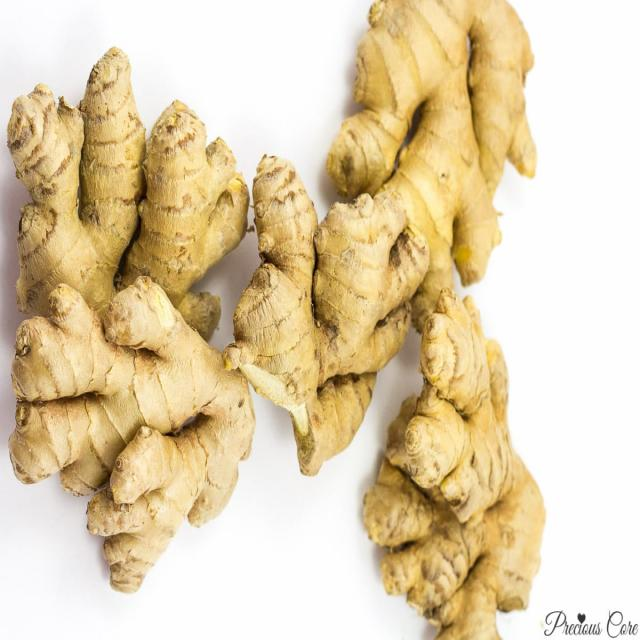ginger: (6, 275, 248, 592), (5, 42, 246, 294), (238, 150, 428, 408), (325, 3, 554, 203), (389, 290, 521, 520), (363, 505, 539, 640)
